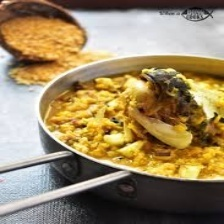sabzi: (45, 67, 224, 180)
